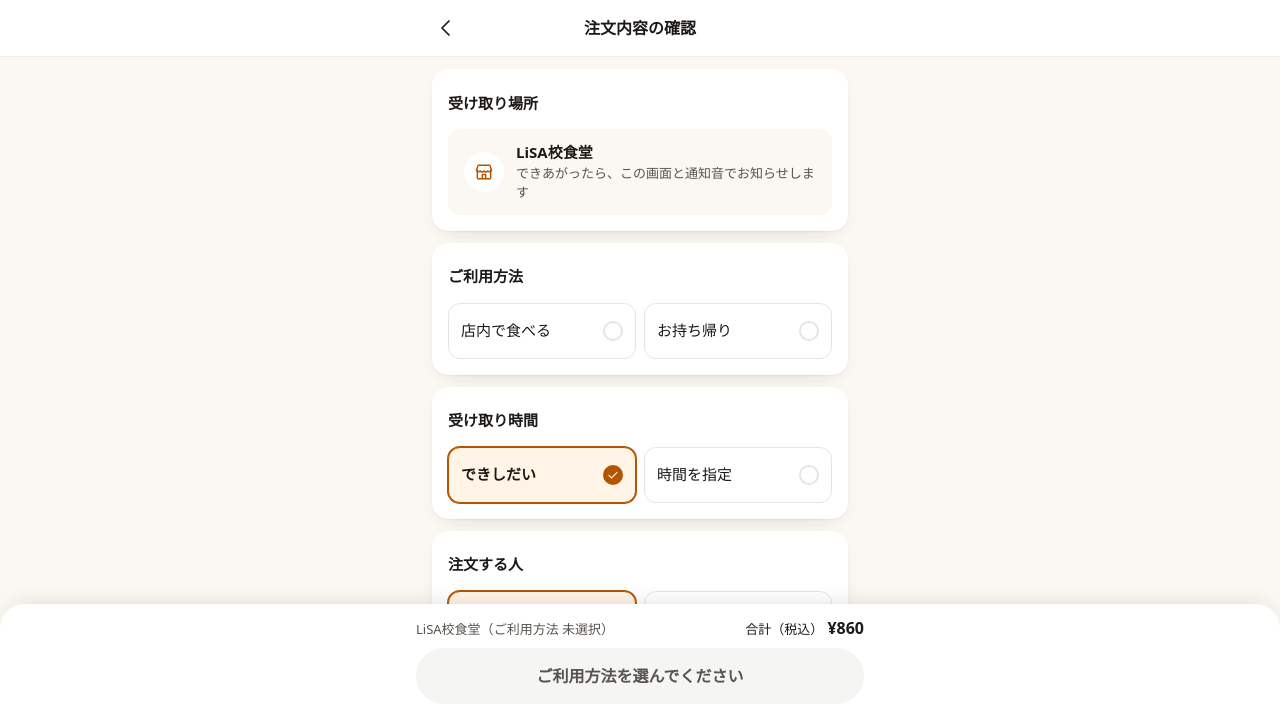
Test case: 注文内容の確認 › ご利用方法を選ぶと支払えるようになり、最下部に場所と利用方法が出る
This screenshot has width=1280, height=720.
Click the radio button labelled "お持ち帰り": (738, 330) [644,302,832,358]
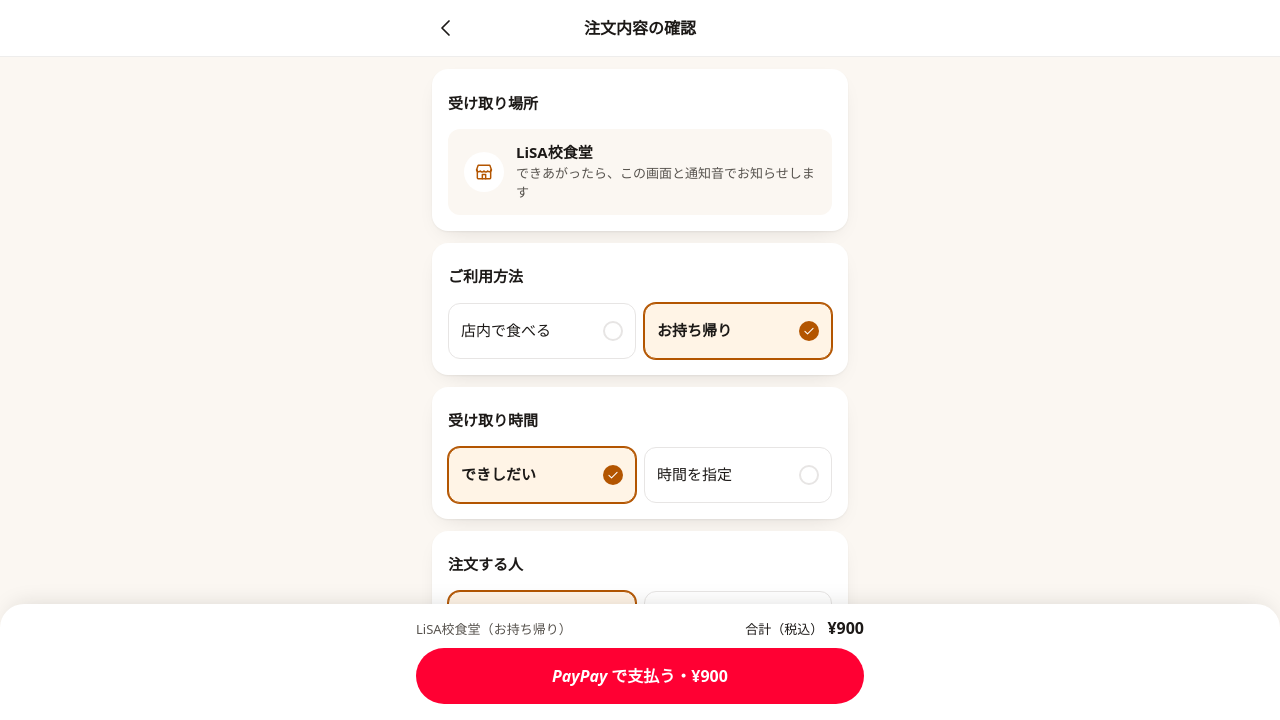
Now the button "PayPay で支払う・ ¥900" is enabled, box [416,648,864,704]
Now the text "LiSA校食堂（お持ち帰り）" is shown, box [416,620,572,640]
